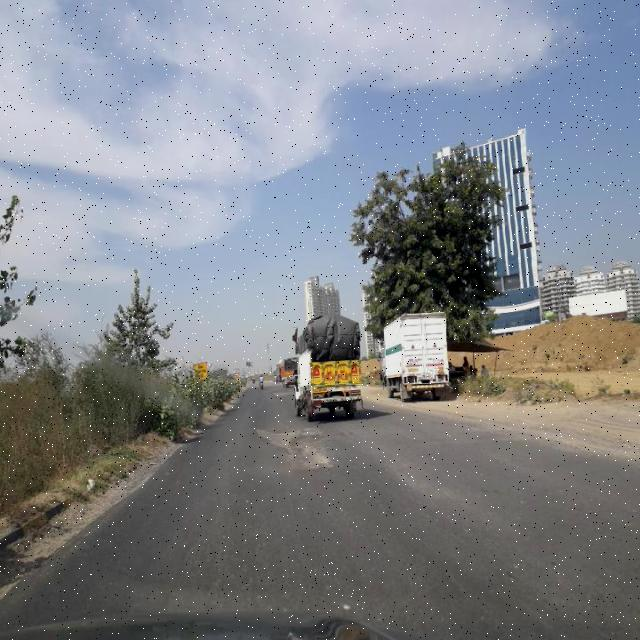D40: (249, 426, 330, 471)
